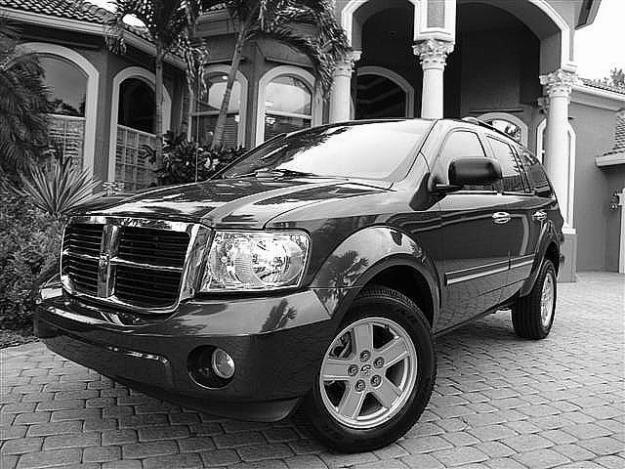car: (31, 117, 566, 455)
